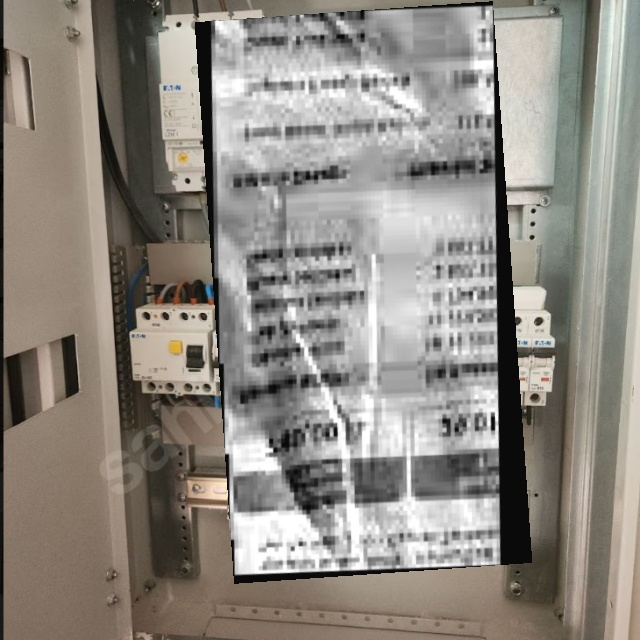electricity-bill: (194, 1, 531, 583)
